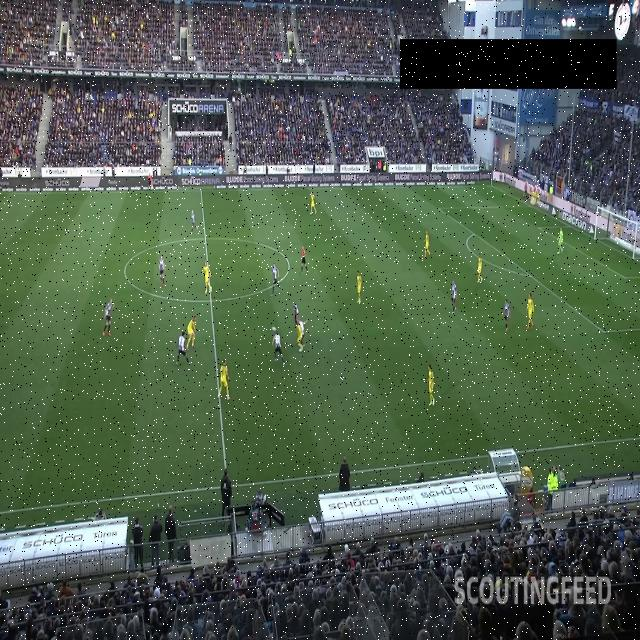Ball: (272, 324, 277, 334)
GoalKeeper: (556, 226, 564, 256)
Referee: (300, 245, 310, 274), (147, 172, 154, 192)
TEAM 1: (217, 357, 230, 401), (427, 364, 436, 407), (186, 314, 196, 351), (526, 292, 535, 331), (202, 260, 212, 295), (295, 320, 304, 356), (355, 269, 363, 305), (476, 252, 484, 284), (423, 229, 431, 258), (309, 190, 317, 215)
TEAM 2: (175, 331, 191, 368), (102, 296, 115, 339), (272, 330, 286, 368), (270, 260, 283, 300), (298, 318, 308, 350), (189, 207, 199, 237), (450, 278, 458, 314), (502, 297, 510, 332), (158, 255, 166, 285), (292, 300, 299, 326)
